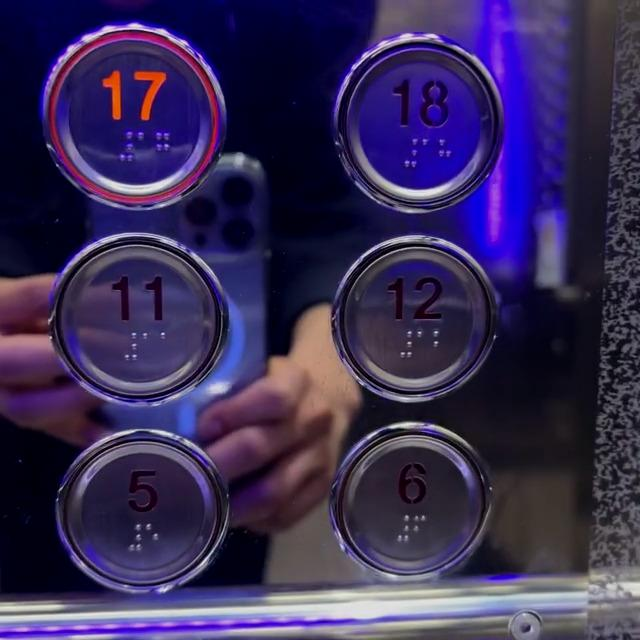button: (41, 244, 241, 421), (55, 35, 247, 202), (334, 44, 508, 220), (50, 436, 249, 572), (331, 417, 499, 573), (331, 237, 497, 394)
